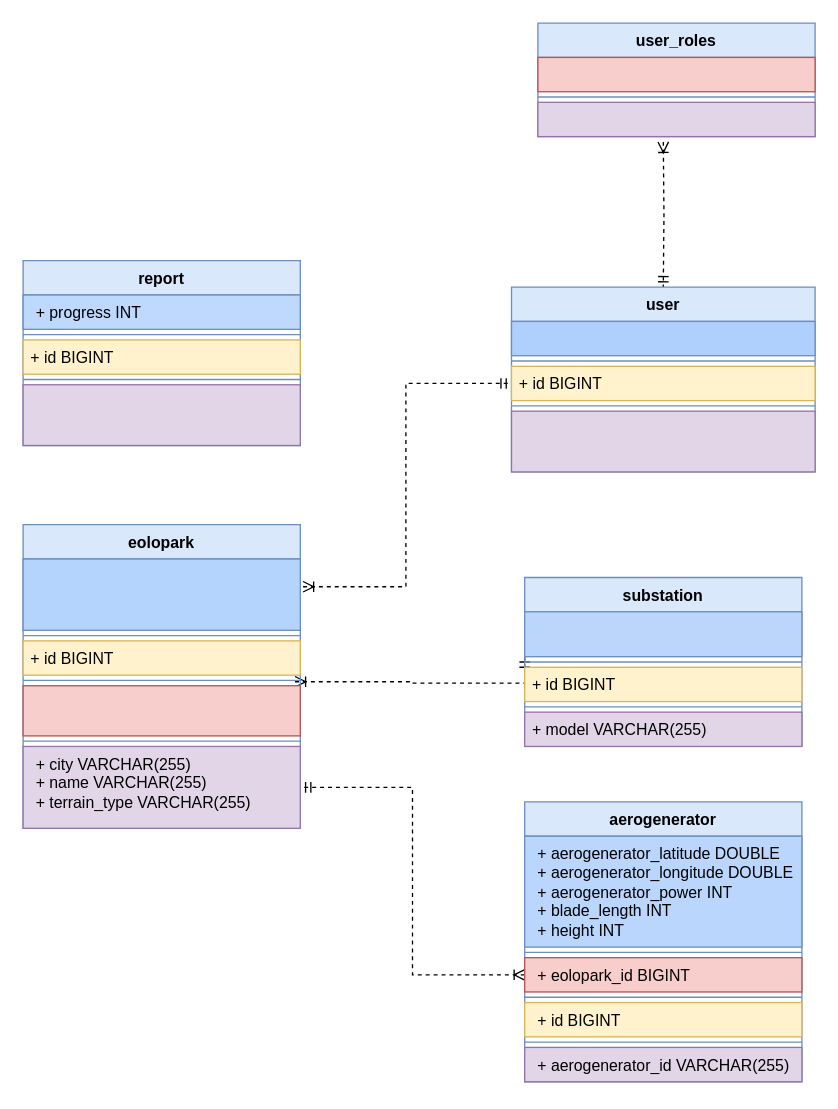
The diagram is 838 pixels wide and 1109 high, and some of its shapes have lost their labels. The shapes that lost their labels are listed below. From the top down, each one's centre as x and y in pixels, then its label:
At pixel 676 74: "+ user_id BIGINT".
At pixel 676 119: "+ roles VARCHAR(255)".
At pixel 662 338: "+ park_max INT".
At pixel 161 414: "+ completed BOOL + username VARCHAR(255)".
At pixel 662 441: "+ encoded_password VARCHAR(255) + name VARCHAR(255)".
At pixel 161 594: "+ area: INT + latitude: DOUBLE + longitude: DOUBLE".
At pixel 662 633: "+ power DOUBLE + voltage DOUBLE".
At pixel 161 710: "+ substation_id BIGINT + user_id BIGINT".
